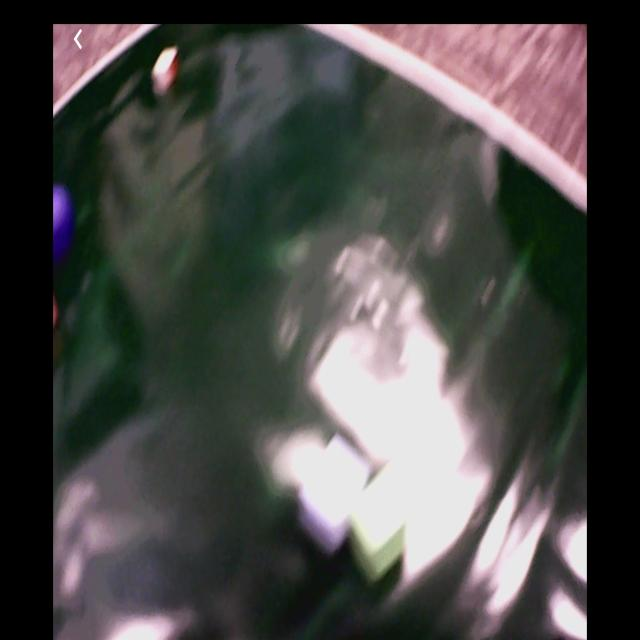ball: (55, 180, 75, 264)
